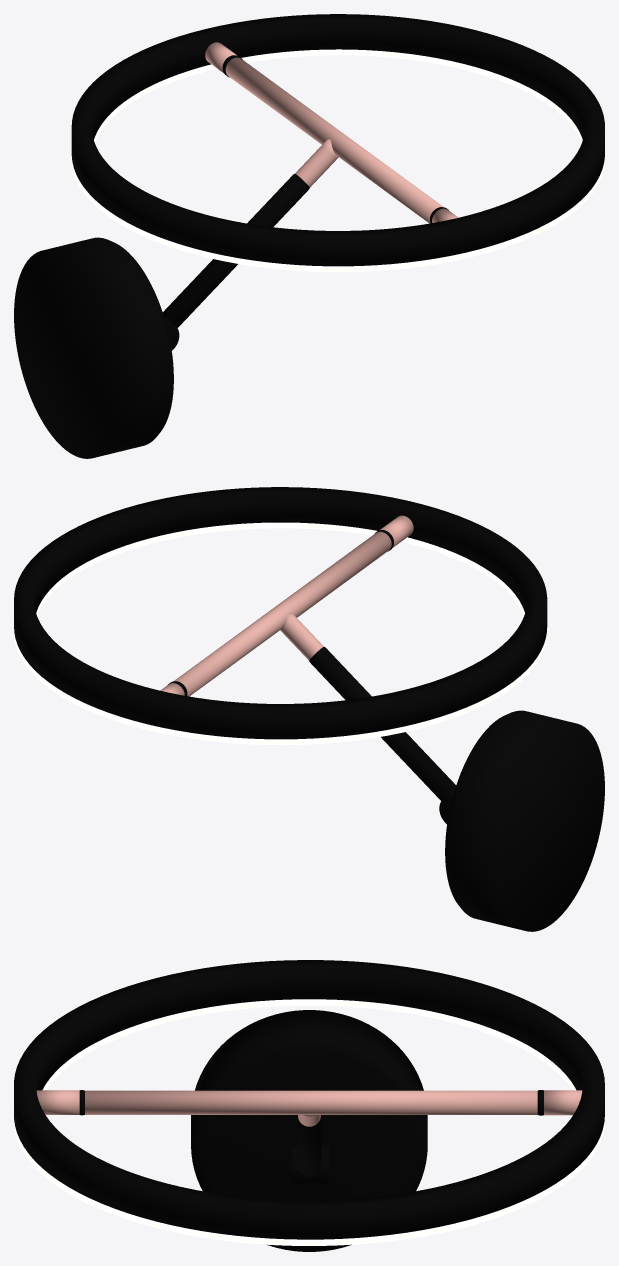
File: lamp3.glb
The picture shows the model from 3 angles, top to bottom: view 1: azimuth 30°, elevation 25°; view 2: azimuth 150°, elevation 25°; view 3: azimuth 270°, elevation 25°; orthographic projection. The views are drawn at different scales.
Visible parts, largest first — view 1: mAIN cIRCLE fRAME_0, Cylinder.003_10, mAIN cIRCLE fRAME.001_4, rOSE gOLD t_2, Black Arm_6, Cylinder_5; view 2: mAIN cIRCLE fRAME_0, Cylinder.003_10, mAIN cIRCLE fRAME.001_4, rOSE gOLD t_2, Black Arm_6, Cylinder_5; view 3: mAIN cIRCLE fRAME_0, Cylinder.003_10, rOSE gOLD t_2, mAIN cIRCLE fRAME.001_4, Black Arm_6, Cylinder.001_7, Cylinder.002_8.
Part boxes in pixels (box(x1,y1,x2,y2)): mAIN cIRCLE fRAME_0: box(71, 14, 604, 266); Cylinder.003_10: box(14, 237, 173, 458); mAIN cIRCLE fRAME.001_4: box(71, 49, 604, 271); rOSE gOLD t_2: box(205, 42, 458, 223); Black Arm_6: box(163, 174, 309, 327); Cylinder_5: box(295, 139, 338, 187); mAIN cIRCLE fRAME_0: box(14, 487, 547, 739); Cylinder.003_10: box(445, 710, 604, 931); mAIN cIRCLE fRAME.001_4: box(14, 522, 547, 745); rOSE gOLD t_2: box(160, 515, 413, 696); Black Arm_6: box(309, 647, 455, 800); Cylinder_5: box(280, 612, 323, 660); mAIN cIRCLE fRAME_0: box(14, 960, 604, 1239); Cylinder.003_10: box(191, 1010, 427, 1251); rOSE gOLD t_2: box(36, 1090, 582, 1115); mAIN cIRCLE fRAME.001_4: box(14, 999, 604, 1245); Black Arm_6: box(297, 1115, 321, 1176); Cylinder.001_7: box(309, 1145, 328, 1185); Cylinder.002_8: box(290, 1145, 309, 1185).
Bounding box in the file's own units: 0.3141 × 0.1545 × 0.289.
